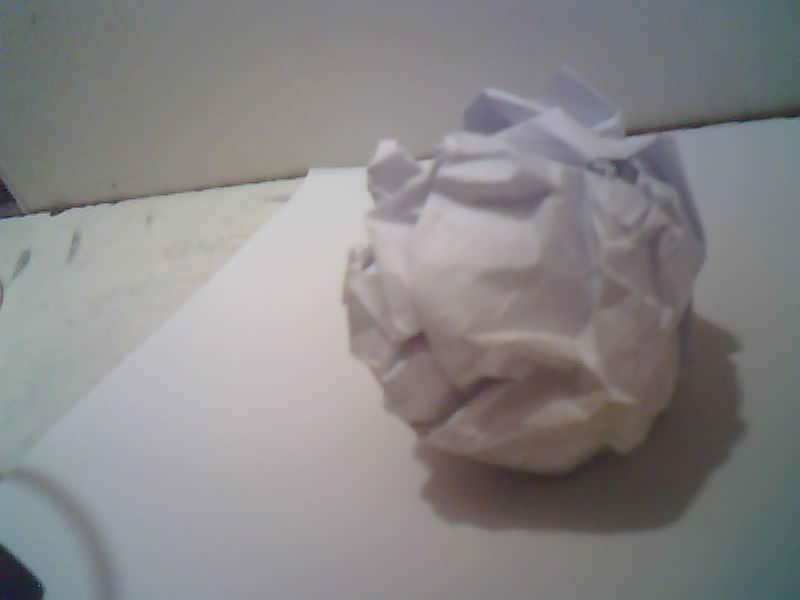biodegradable: (342, 75, 705, 473)
